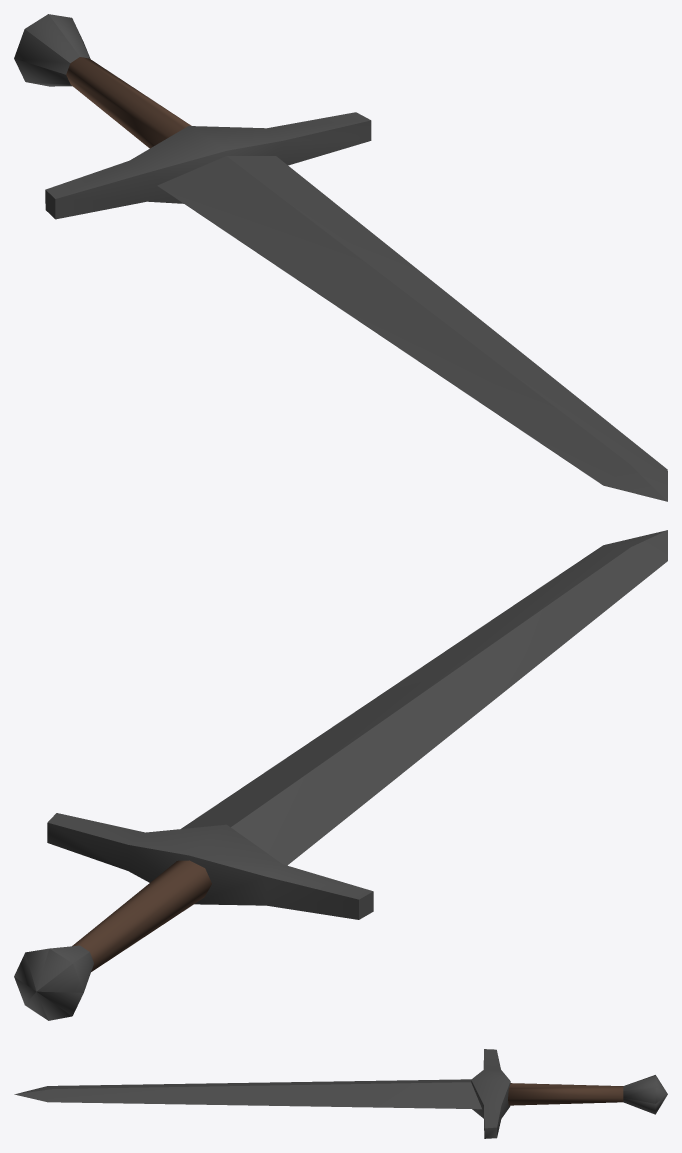
The model's file is S_Sword.fbx.
3 renders of one model, top to bottom at view 1: azimuth 30°, elevation 25°; view 2: azimuth 150°, elevation 25°; view 3: azimuth 270°, elevation 25°, orthographic. The views are drawn at different scales.
Parts seen in each view (by area): view 1: S_Sword; view 2: S_Sword; view 3: S_Sword.
Part boxes in pixels (bbox=[...]): S_Sword: bbox=[14, 14, 667, 501]; S_Sword: bbox=[14, 530, 667, 1020]; S_Sword: bbox=[14, 1049, 667, 1138].
Bounding box in the file's own units: 49.55 × 10.87 × 171.
